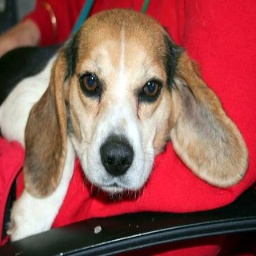dog: (1, 8, 246, 256)
